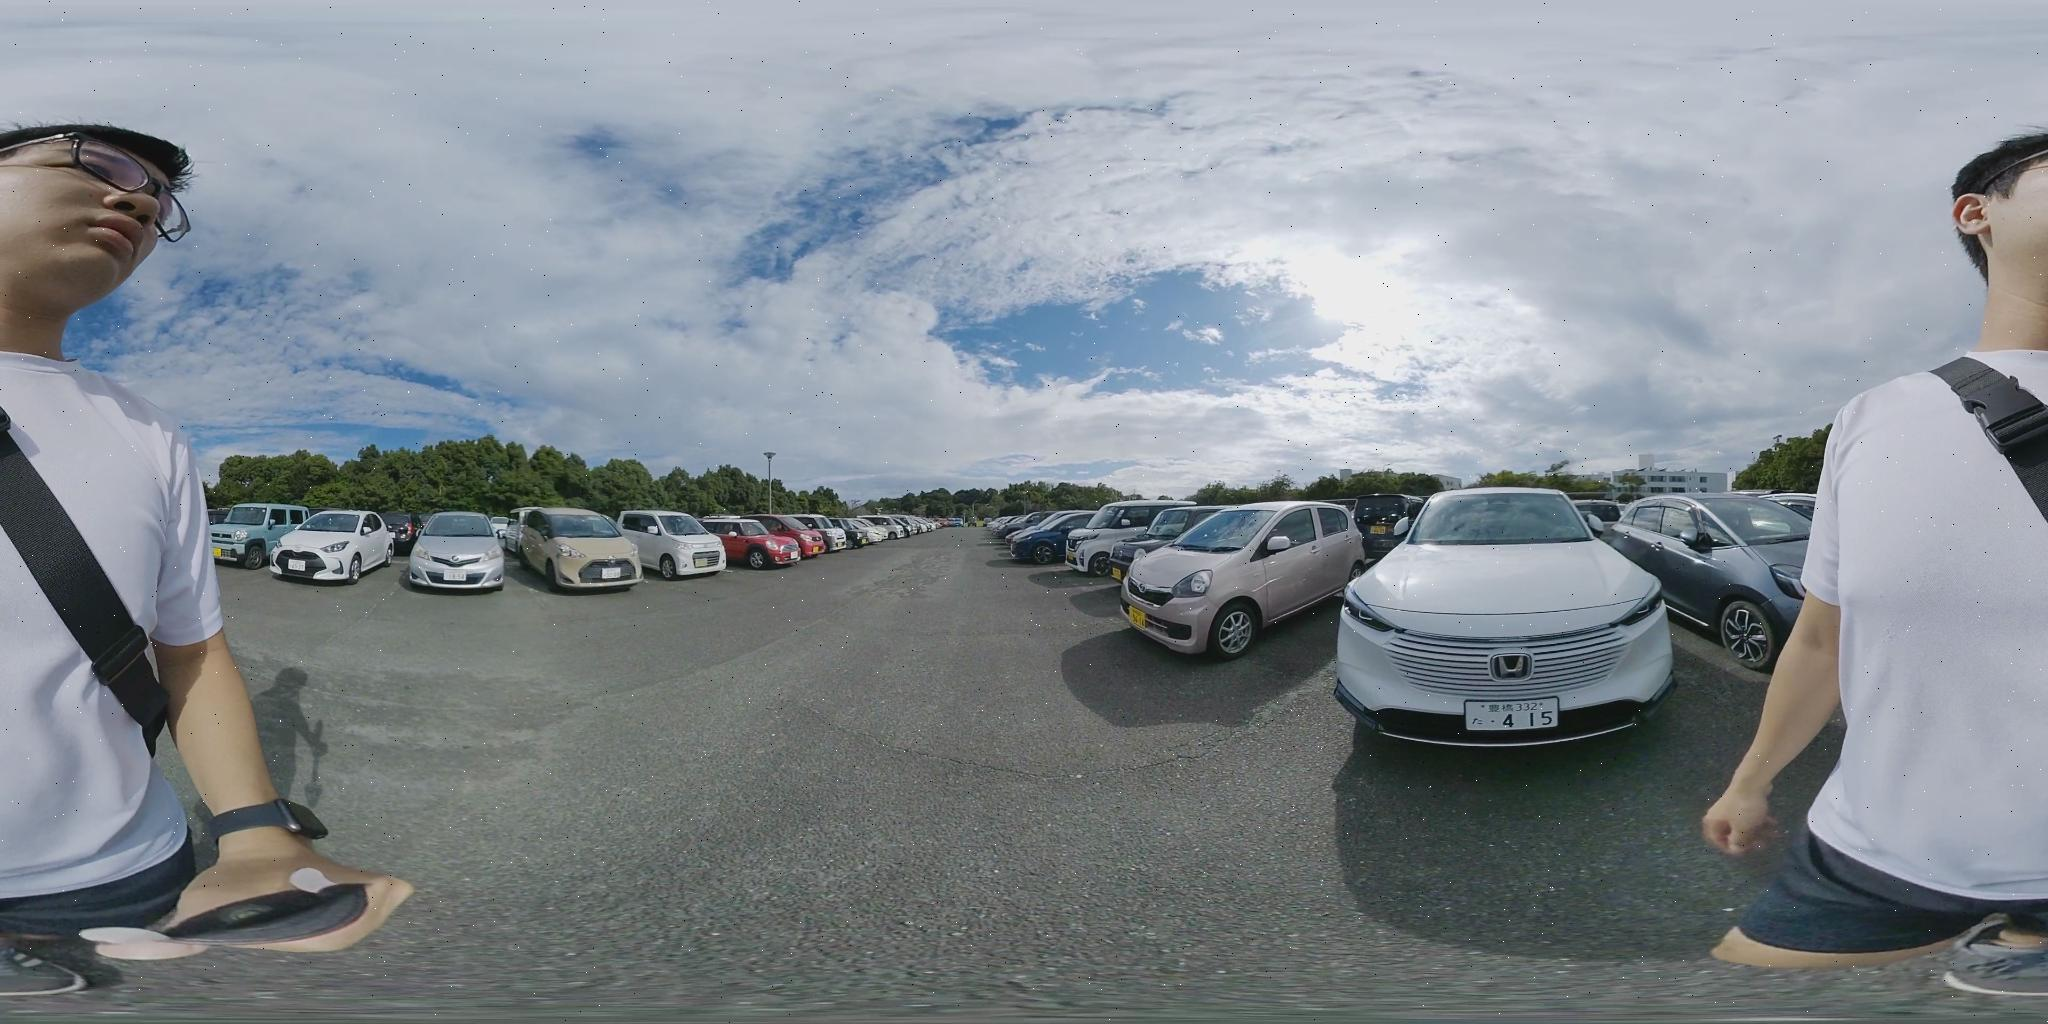car: (1330, 485, 1674, 747), (1118, 504, 1375, 660), (1604, 495, 1822, 674), (1063, 502, 1233, 579), (504, 511, 640, 592), (266, 511, 400, 583), (398, 512, 512, 593), (614, 511, 728, 579), (692, 516, 806, 568), (994, 512, 1092, 560), (769, 517, 832, 556), (806, 519, 866, 551), (829, 519, 883, 547), (879, 517, 923, 541)
